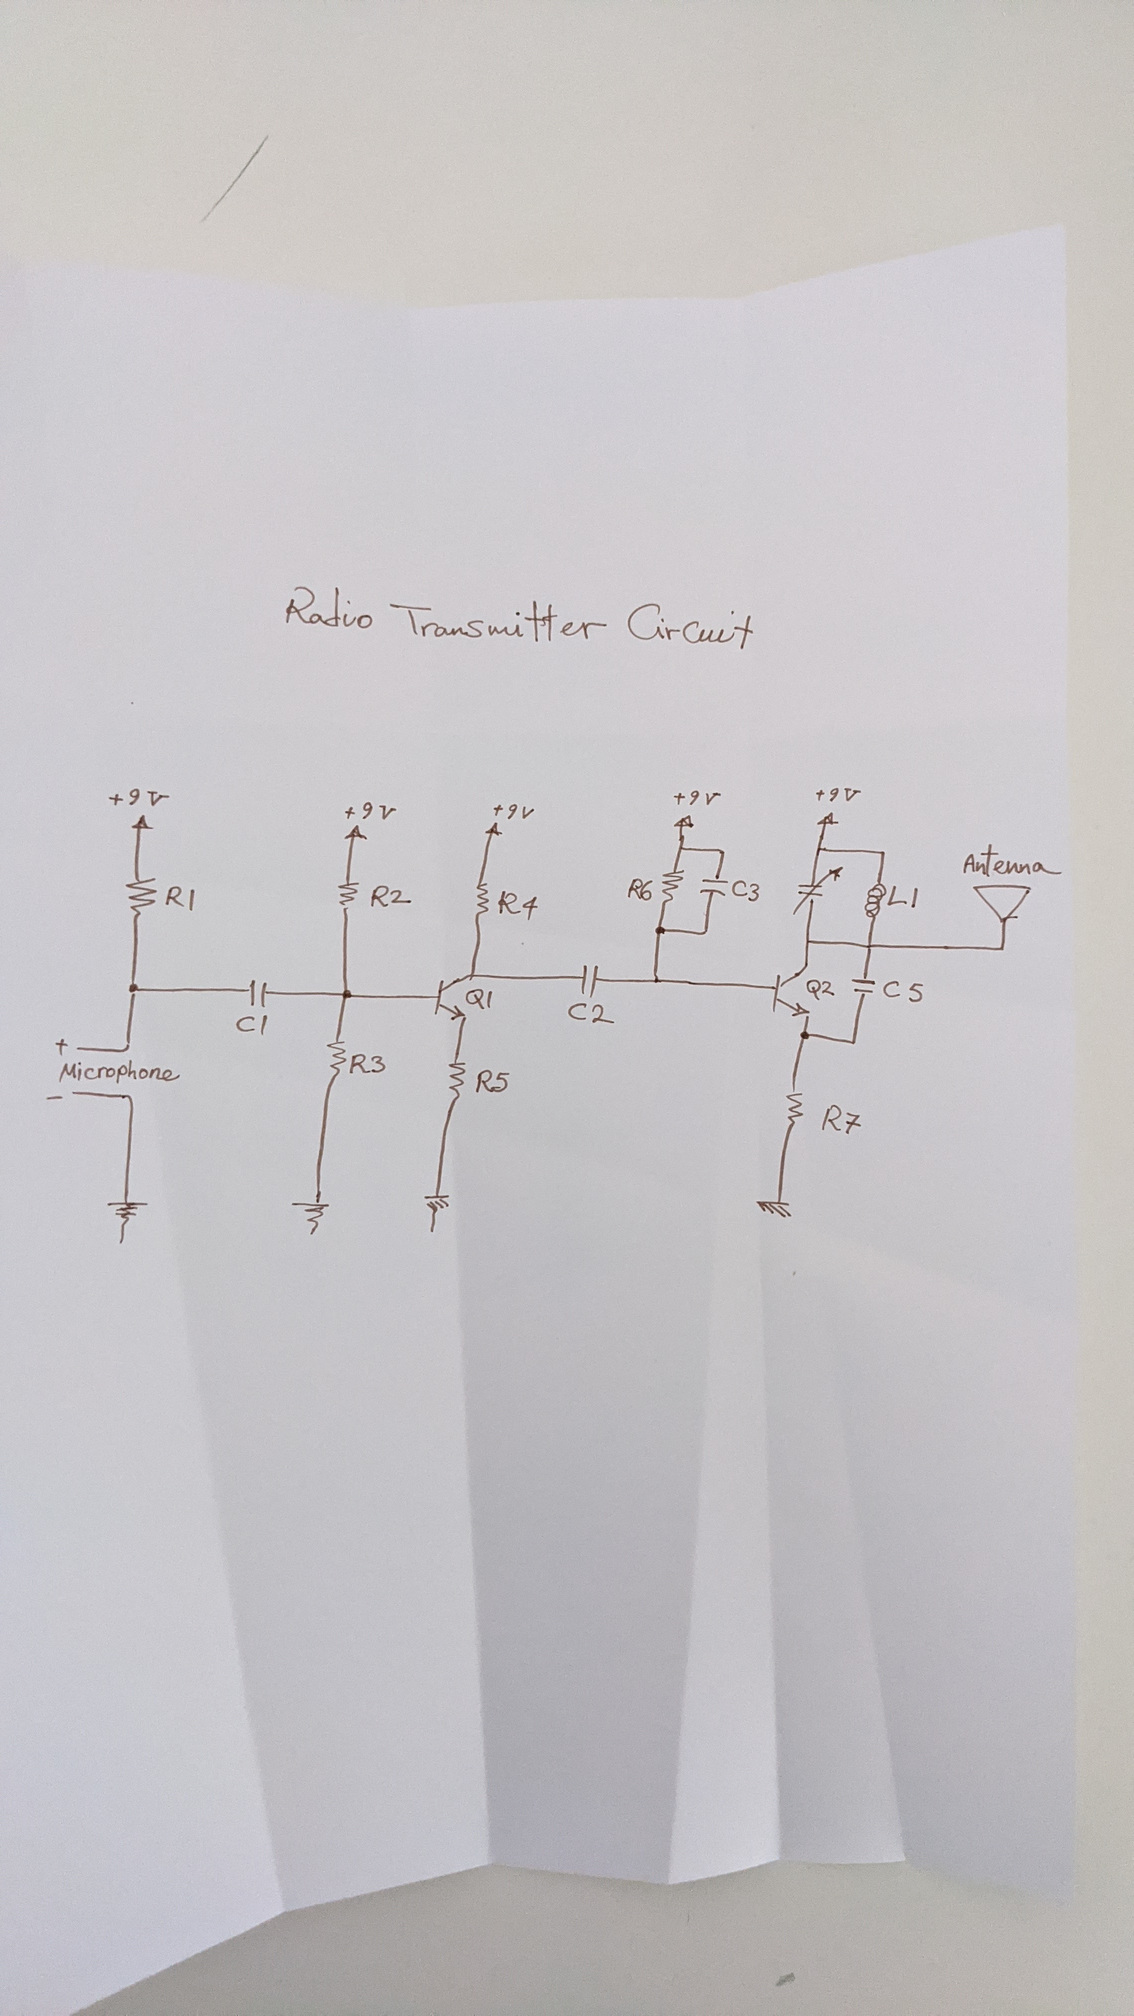antenna: (971, 882, 1036, 925)
capacitor.unpolarized: (791, 865, 845, 917), (577, 964, 601, 1000), (698, 875, 730, 900), (847, 975, 879, 998), (246, 978, 269, 1009)
gnd: (105, 1198, 151, 1246), (289, 1196, 332, 1236), (421, 1192, 451, 1235), (755, 1198, 795, 1220)
inductor: (863, 881, 888, 919)
junction: (126, 980, 141, 998), (651, 972, 665, 987), (341, 989, 354, 1002), (798, 1029, 811, 1043), (654, 924, 667, 936), (122, 1038, 133, 1054), (846, 1036, 858, 1048), (863, 940, 875, 953), (123, 1091, 136, 1104), (876, 847, 889, 858), (701, 926, 712, 937), (997, 943, 1009, 953), (814, 845, 827, 854), (802, 936, 813, 946), (676, 843, 685, 854), (717, 845, 727, 856)
resistor: (123, 876, 159, 921), (656, 867, 685, 907), (324, 1038, 348, 1086), (335, 879, 361, 918), (444, 1059, 468, 1102), (784, 1087, 807, 1128), (472, 881, 493, 924)
terminal: (69, 1086, 80, 1098), (73, 1043, 84, 1052)
text: (282, 584, 757, 652), (960, 842, 1065, 879), (57, 1058, 181, 1086), (107, 786, 172, 809), (496, 889, 540, 921), (820, 1104, 863, 1135), (566, 1000, 618, 1026), (342, 800, 397, 822), (881, 978, 925, 1004), (368, 883, 413, 908), (672, 786, 721, 809), (474, 1068, 512, 1095), (163, 883, 198, 912), (492, 802, 537, 822), (348, 1052, 388, 1076), (814, 785, 863, 804), (886, 883, 921, 910), (462, 986, 496, 1012), (234, 1014, 270, 1037), (730, 878, 762, 904), (804, 978, 836, 1002), (626, 876, 655, 903), (54, 1037, 71, 1055), (44, 1092, 65, 1106)
transistor: (768, 962, 814, 1020), (432, 972, 479, 1022)
vss: (343, 822, 371, 843), (130, 813, 155, 832), (672, 813, 696, 829), (816, 810, 840, 827), (483, 820, 504, 838)
